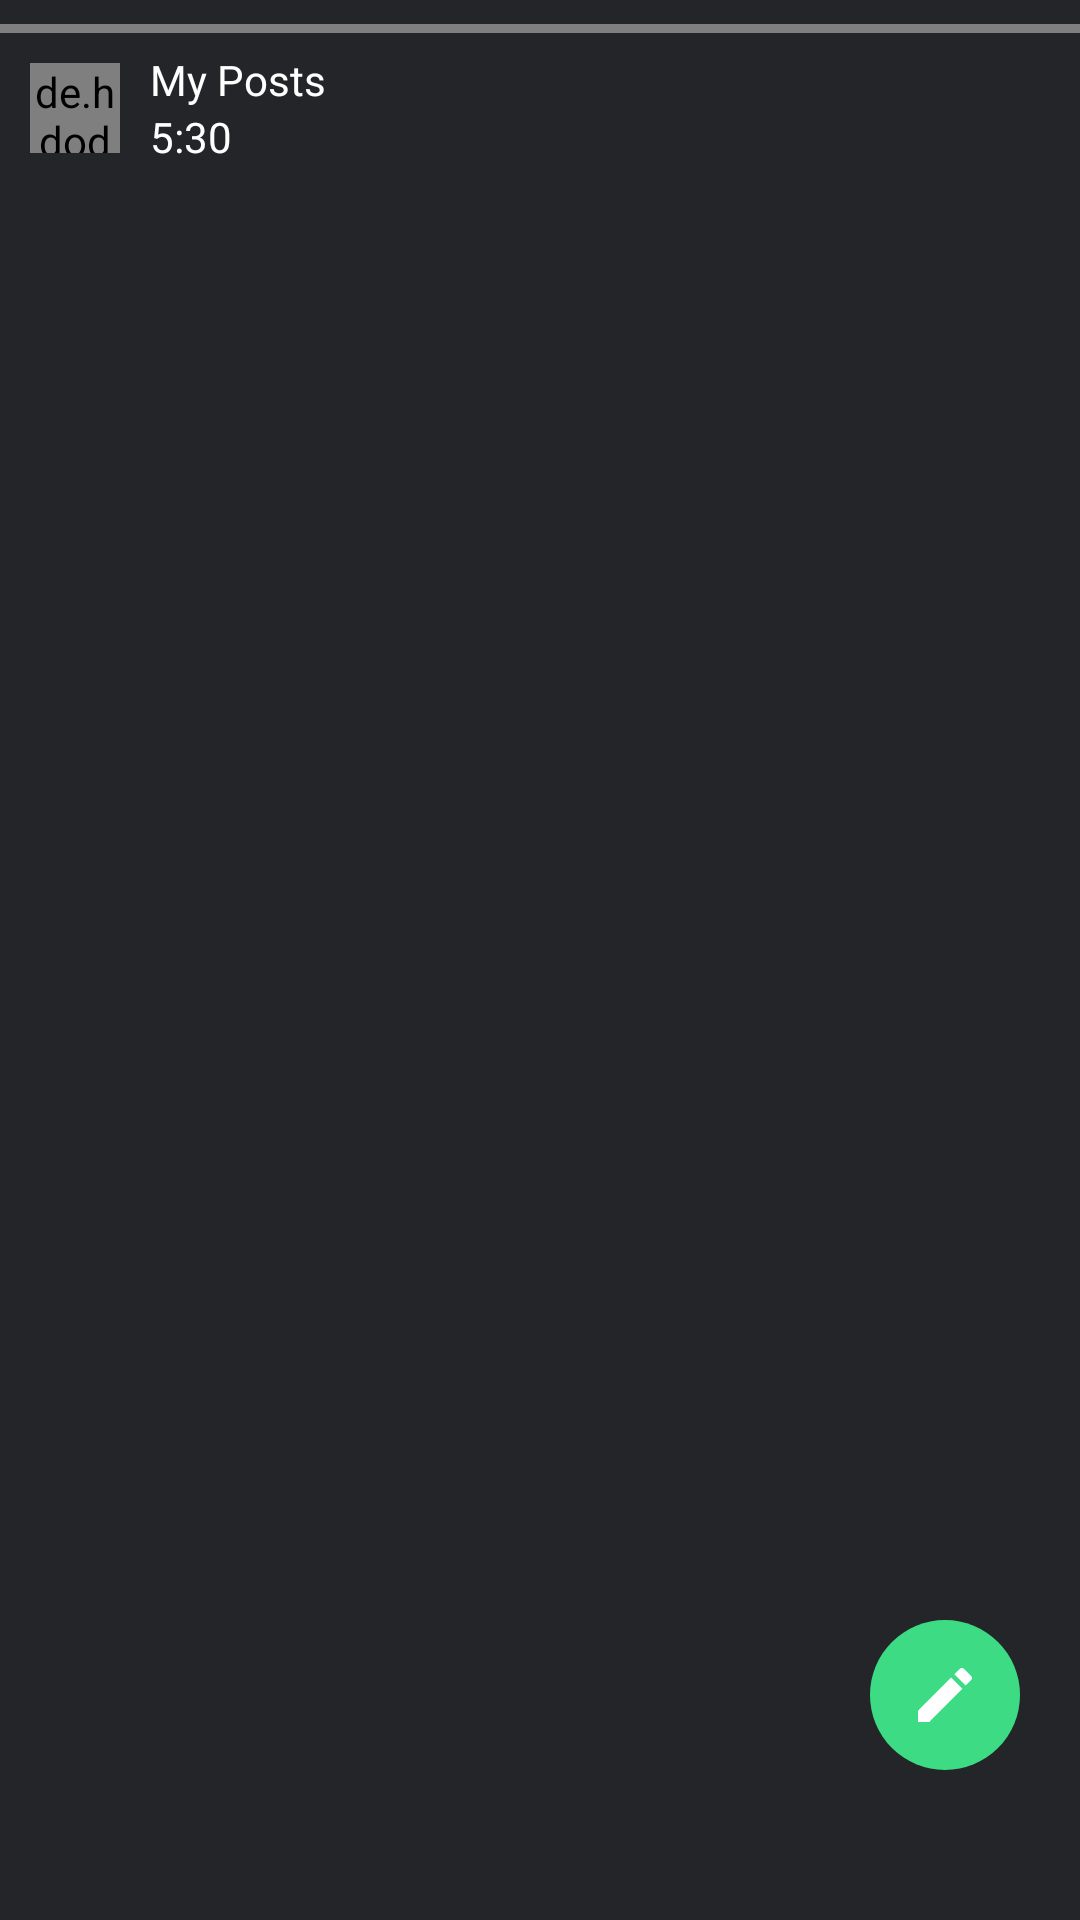

Screen size 1080 × 1920. Icon name, then its box in pixels as bbox=(x1, y1, x2, y2):
edit: bbox=(918, 1668, 972, 1722)
